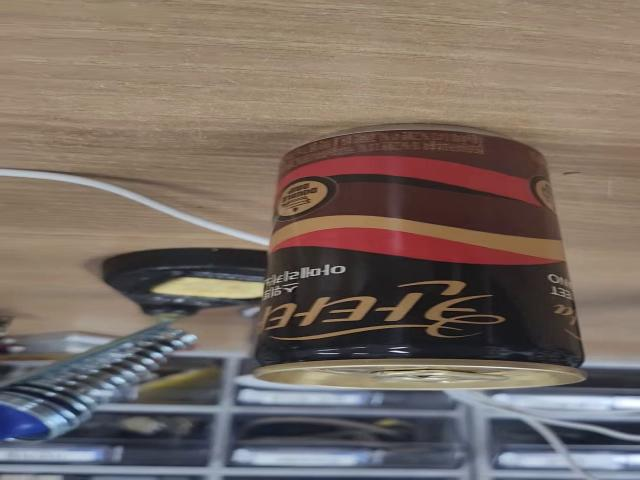Canned_drinks: (263, 120, 583, 392)
